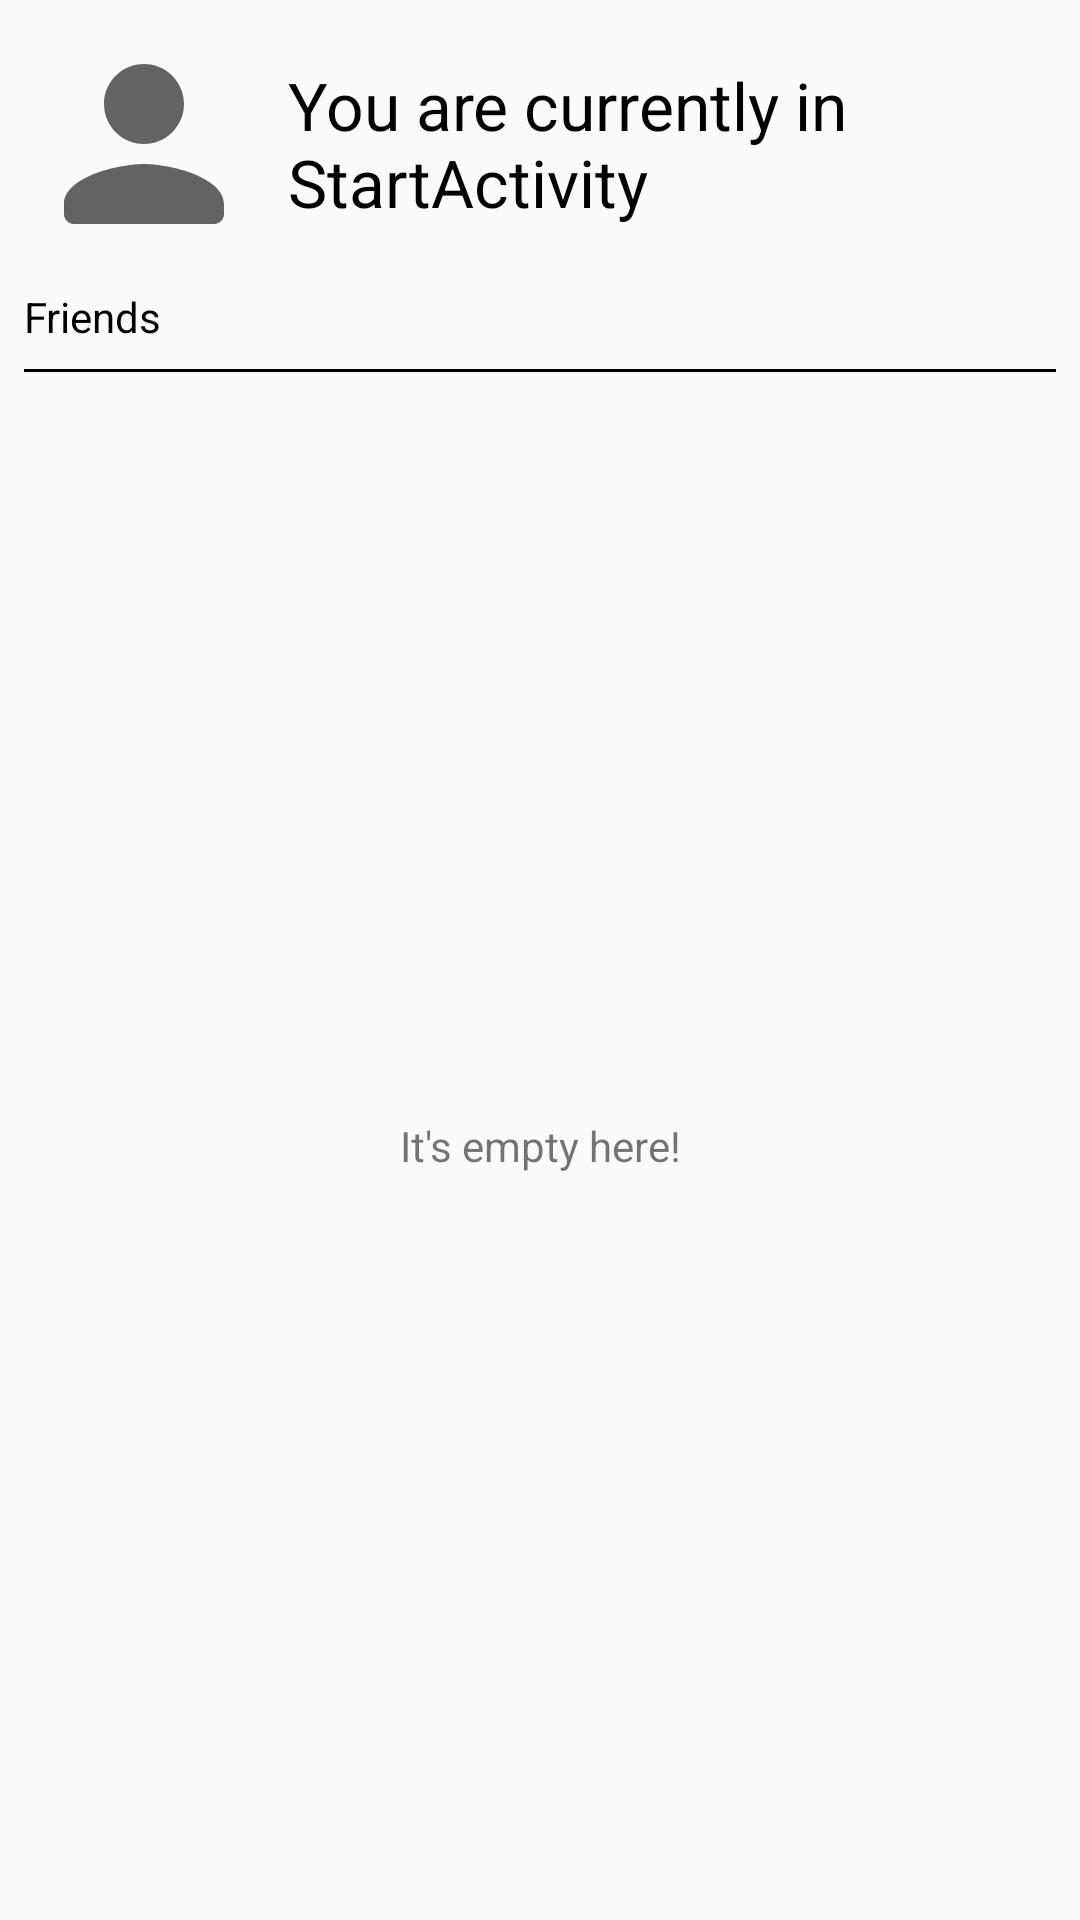

Named icons in this screenshot (1080 x 1920) and their bounding boxes, (x1, y1, x2, y2):
person: (64, 64, 224, 224)
